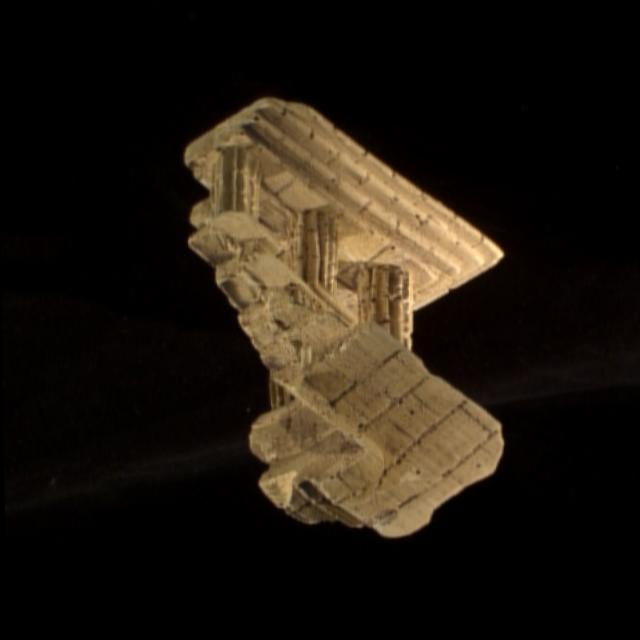Instance-Segmentation: (184, 98, 500, 536)
